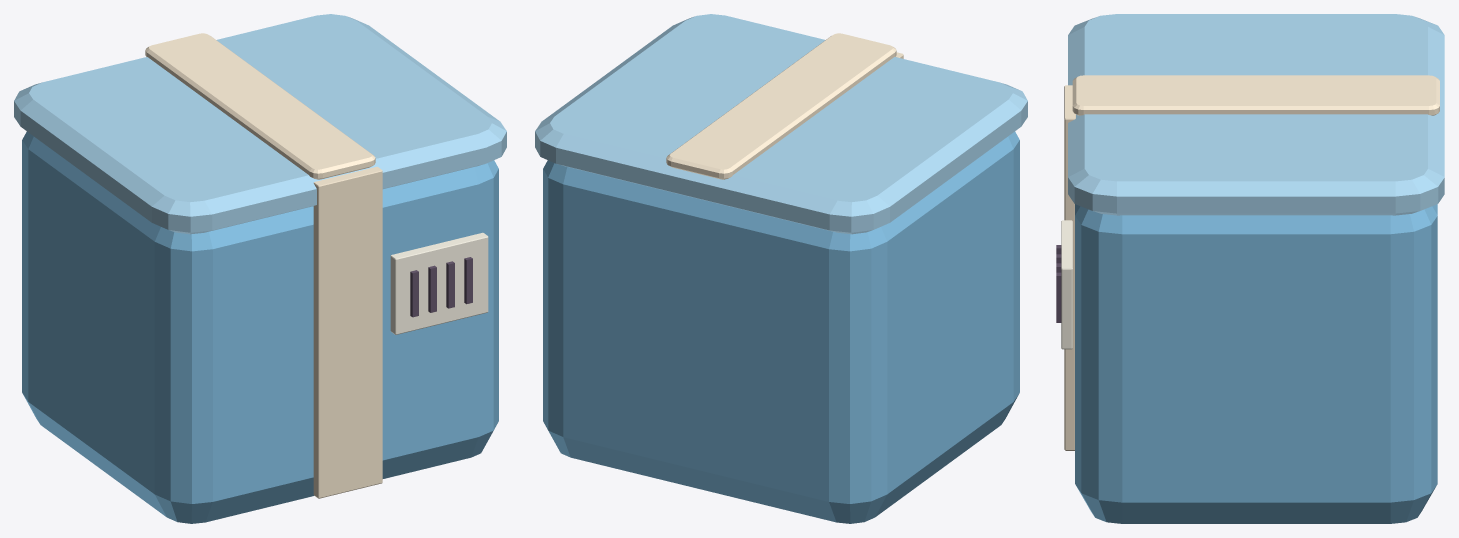
The model's file is street_box_wet.glb.
3 renders of one model, left to right at view 1: azimuth 30°, elevation 25°; view 2: azimuth 150°, elevation 25°; view 3: azimuth 270°, elevation 25°, orthographic. The views are drawn at different scales.
Parts seen in each view (by area): view 1: carton, lid, model, ribbon, label; view 2: carton, lid, ribbon; view 3: carton, lid, ribbon, model, label.
Boxes of the visible parts, x1,y1,x2,y2 form: carton: (22,131,498,523); lid: (14,14,506,234); model: (313,166,472,498); ribbon: (145,33,375,179); label: (390,232,488,334); carton: (543,131,1019,523); lid: (535,14,1027,234); ribbon: (666,33,896,179); carton: (1075,204,1437,523); lid: (1068,14,1444,215); ribbon: (1072,75,1439,115); model: (1056,85,1075,450); label: (1061,220,1072,349).
Bounding box in the file's own units: 0.55 × 0.5 × 0.5.
